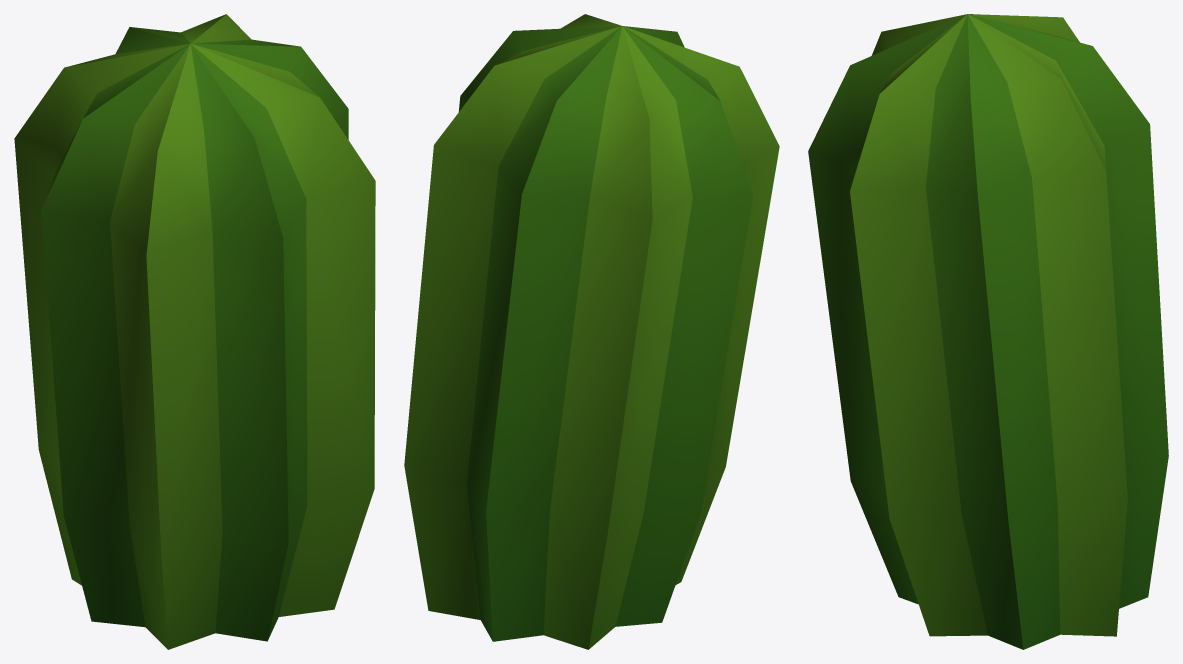
File: Cactus 04.FBX
The picture shows the model from 3 angles, left to right: view 1: azimuth 30°, elevation 25°; view 2: azimuth 150°, elevation 25°; view 3: azimuth 270°, elevation 25°; orthographic projection. The views are drawn at different scales.
Parts seen in each view (by area): view 1: Cactus 04; view 2: Cactus 04; view 3: Cactus 04.
Part boxes in pixels (left/top/right/bottom): Cactus 04: left=14, top=14, right=375, bottom=649; Cactus 04: left=404, top=14, right=779, bottom=649; Cactus 04: left=808, top=14, right=1168, bottom=649.
Size of the model in its own units: 119 by 205 by 119.
Materials: 1 (1 with a texture image).
